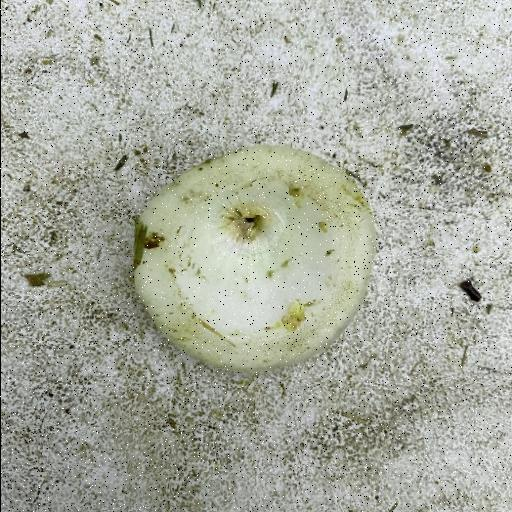Waste: (130, 142, 378, 374)
